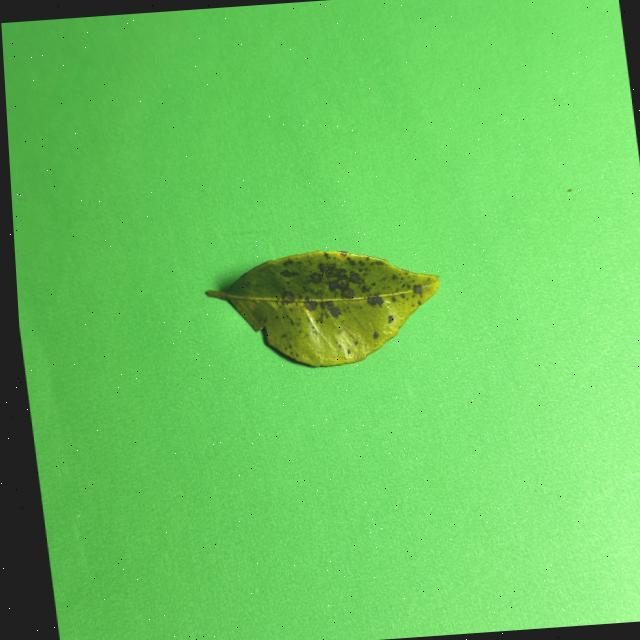sooty_mold: (206, 250, 438, 365)
